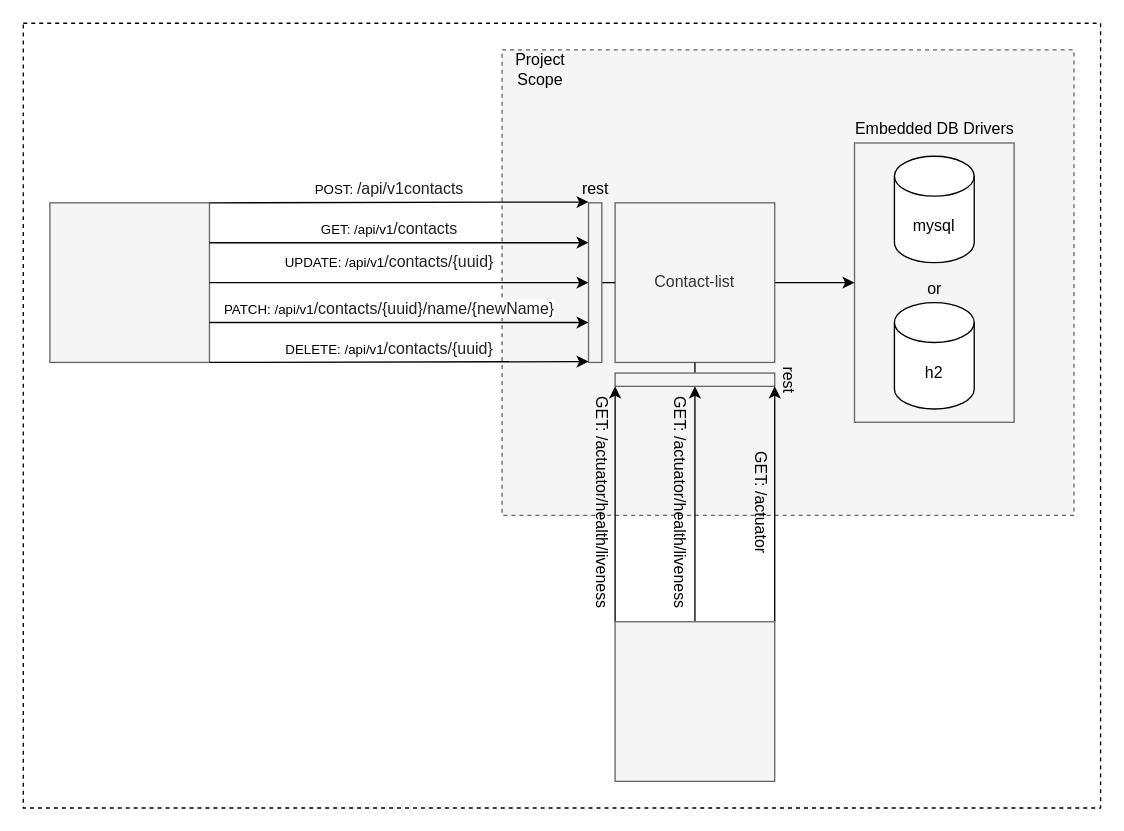
Some shapes in this 1124 by 831 pixel diagram are drawn without their labels. The centre of each missing label's shape, as x and y in pixels:
"Client" goes at pixel 129 281.
"Metrics server / container orchestrator" goes at pixel 694 700.
